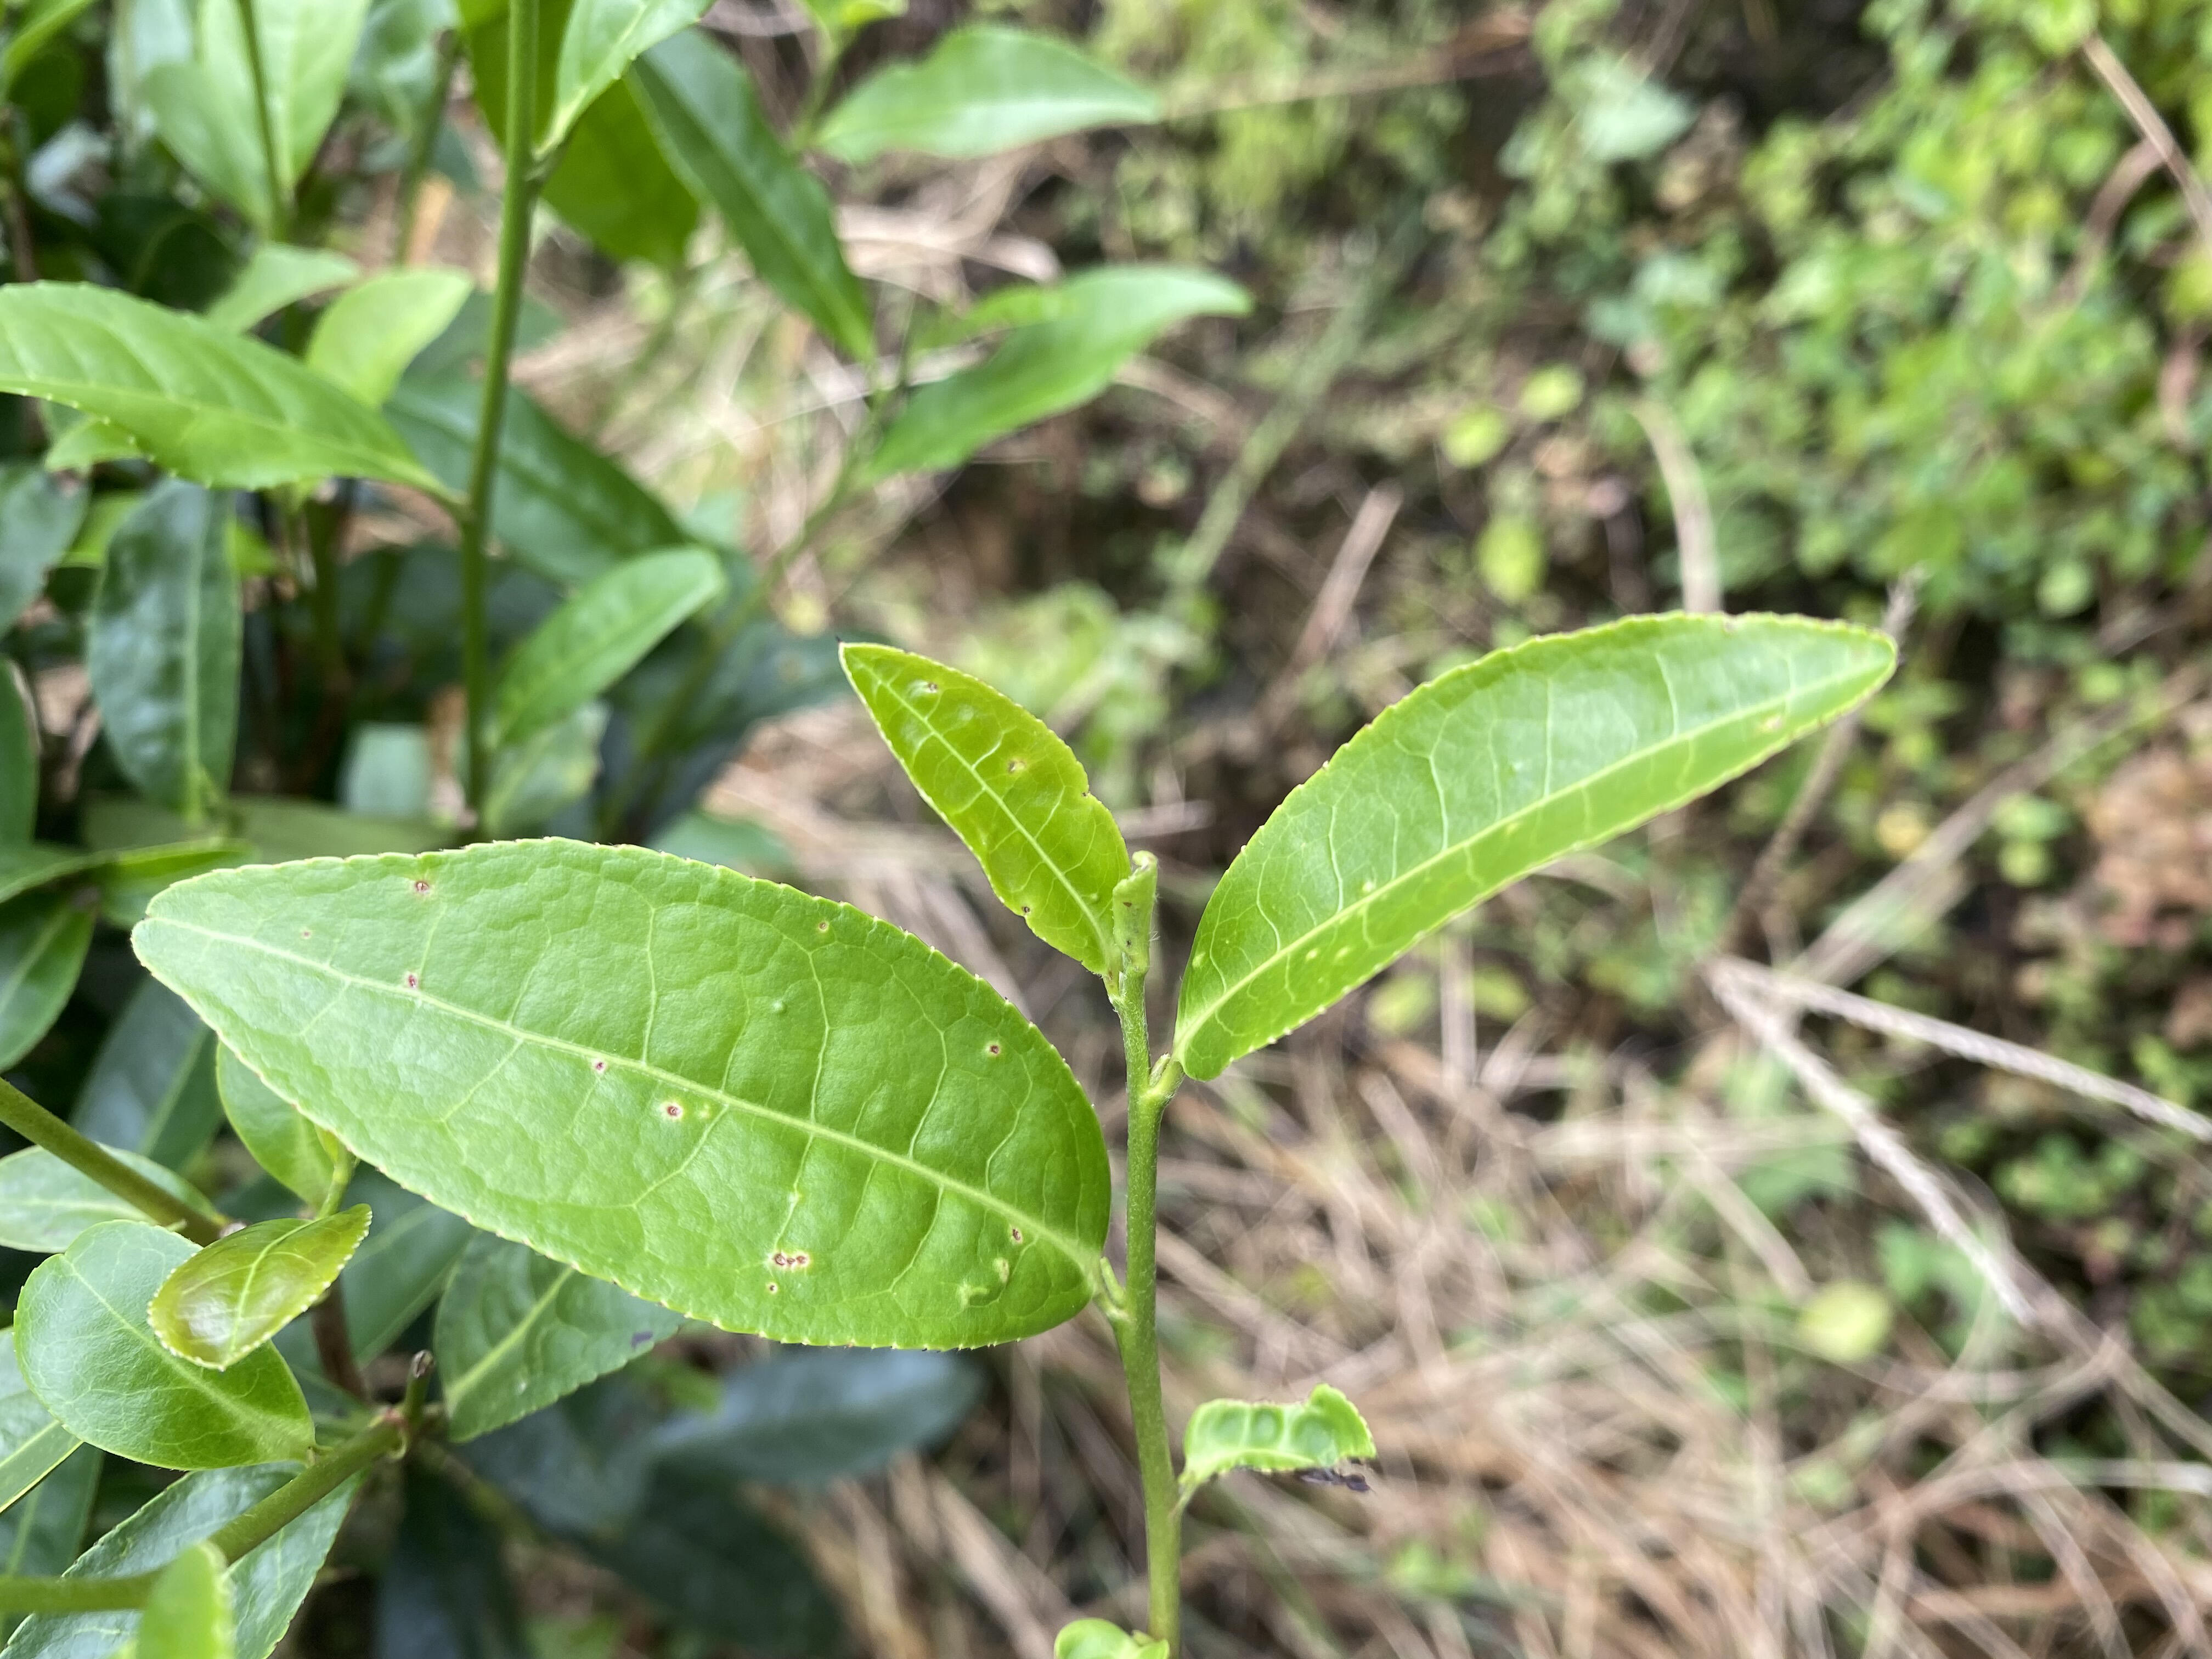healthy: (1172, 608, 1898, 1079), (12, 1218, 320, 1474), (146, 1204, 374, 1371)
tanju_low: (131, 833, 1118, 1356), (836, 641, 1136, 974)
